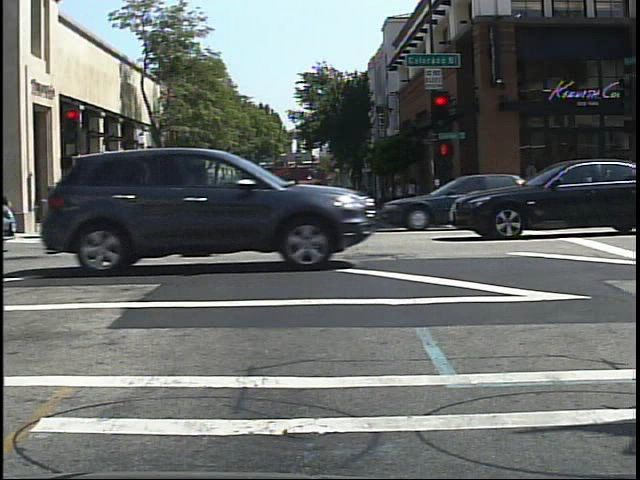person: (161, 181, 179, 217), (137, 181, 156, 212), (89, 187, 103, 228)
